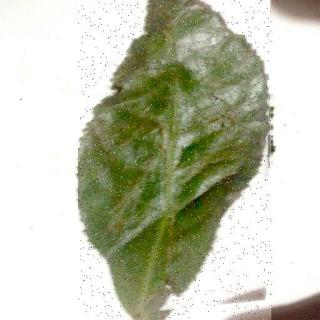Red Leaf Spot: (80, 1, 274, 320)
